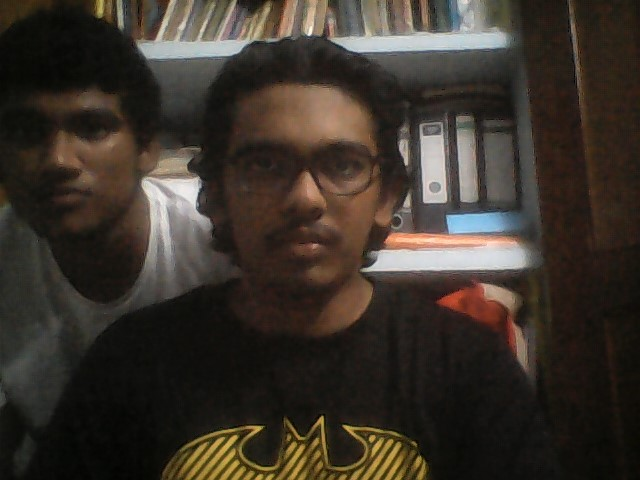person: (139, 39, 512, 445), (3, 3, 177, 321)
